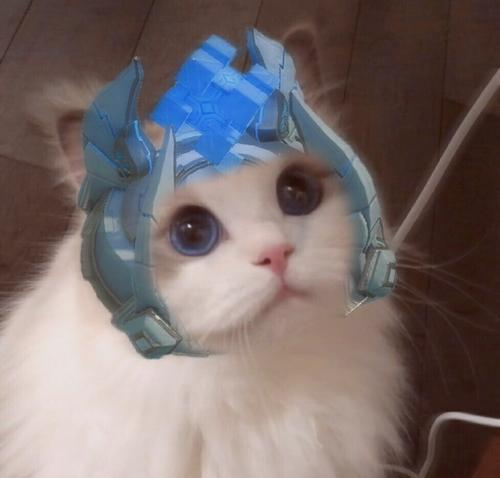cat: (90, 93, 394, 360)
